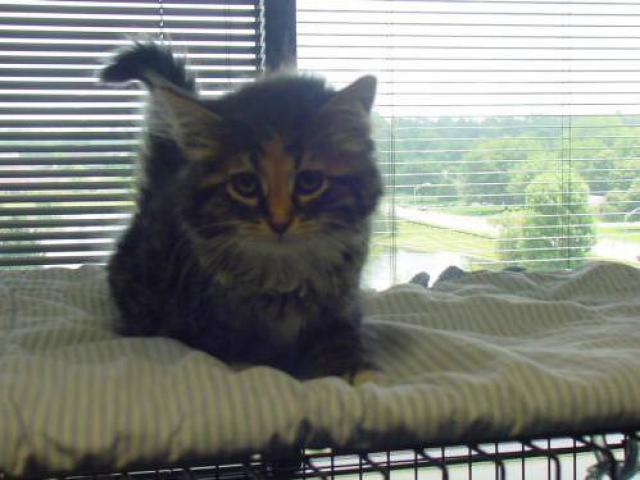cat: (106, 43, 386, 380)
